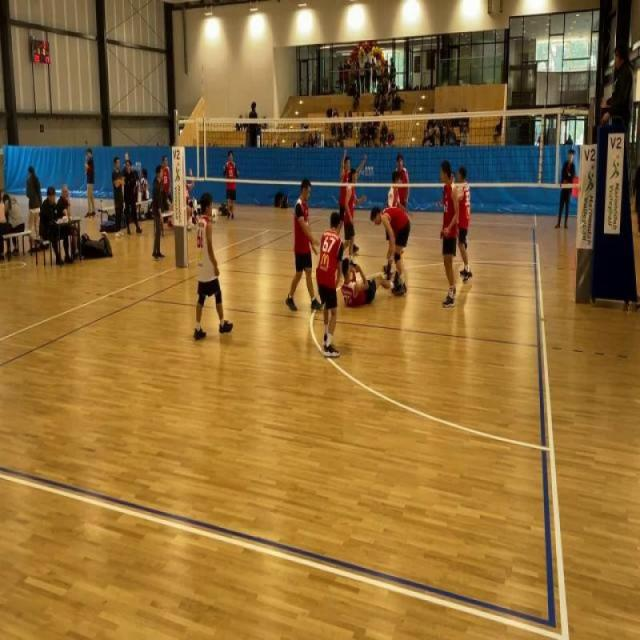volleyball: (400, 249, 404, 263), (100, 231, 108, 238)
